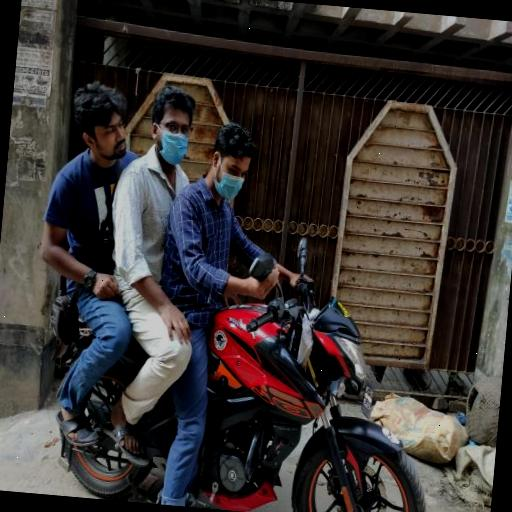no helmet: (196, 110, 303, 309)
triple riding: (7, 61, 461, 512)
